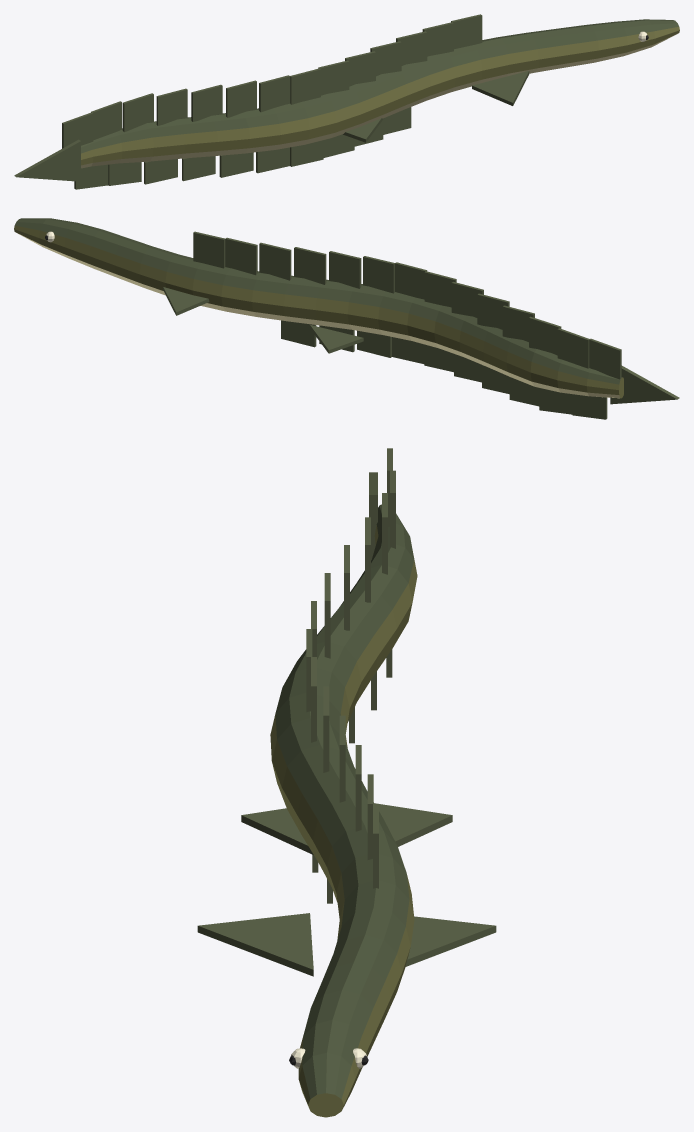
The model's file is aal.glb.
3 renders of one model, top to bottom at view 1: azimuth 30°, elevation 25°; view 2: azimuth 150°, elevation 25°; view 3: azimuth 270°, elevation 25°, orthographic. The views are drawn at different scales.
Visible parts, largest first — view 1: aal; view 2: aal; view 3: aal.
Part boxes in pixels (x1=…): aal: x1=14, y1=14, x2=679, y2=189; aal: x1=14, y1=218, x2=679, y2=419; aal: x1=197, y1=448, x2=496, y2=1117.
Bounding box in the file's own units: 1 × 0.1339 × 0.1993.
